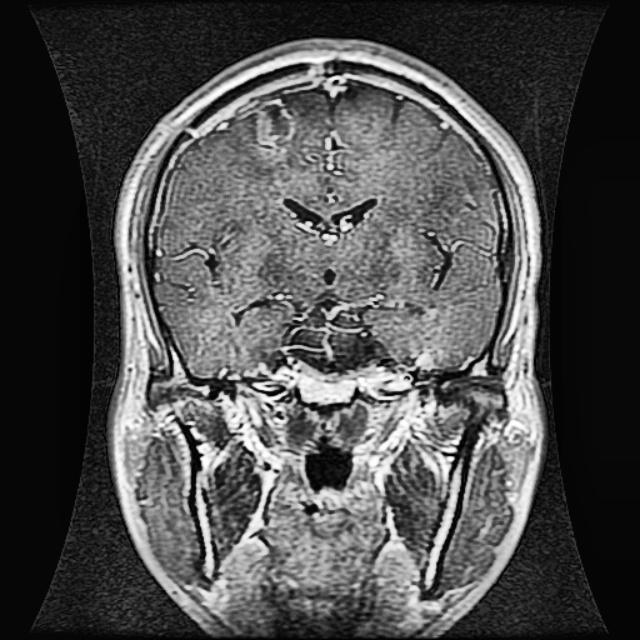Meningioma: (242, 93, 300, 154)
